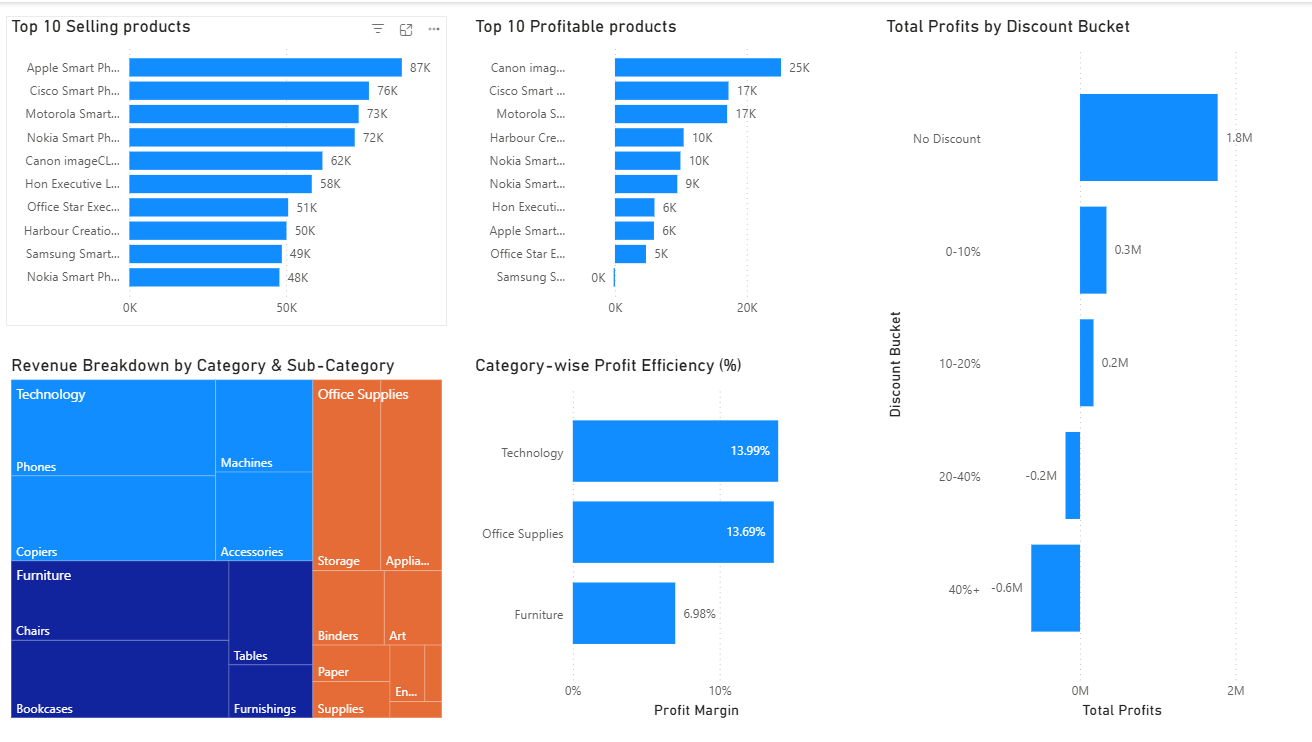

The page's visual inventory and layout, read from the dashboard file:
{"tool":"powerbi","page":{"name":"Product & Category Insights","canvas":[1280,720],"ordinal":1},"visuals":[{"type":"barChart","title":"Top 10 Selling products","fields":{"Category":["SuperStoreOrders.product_name"],"Y":["Key Measures.Total Sales"]},"box":[9.7,13.6,428.9,301.5],"z":0},{"type":"barChart","title":"Top 10 Profitable products","fields":{"Category":["SuperStoreOrders.product_name"],"Y":["Key Measures.Total Profits"]},"box":[461,13.6,357,301.5],"z":1000},{"type":"treemap","title":"Revenue Breakdown by Category & Sub-Category","fields":{"Values":["Key Measures.Total Sales"],"Group":["SuperStoreOrders.category"],"Details":["SuperStoreOrders.sub_category"]},"box":[9.7,343.3,428.9,357.9],"z":2000},{"type":"barChart","title":"Category-wise Profit Efficiency (%)","fields":{"Y":["Key Measures.Profit Margin"],"Category":["SuperStoreOrders.category"]},"box":[461,343.3,357.9,357.9],"z":3000},{"type":"barChart","fields":{"Category":["SuperStoreOrders.Discount Bucket"],"Y":["Key Measures.Total Profits"]},"box":[860.8,13.6,377.4,687.7],"z":4000}]}

Visuals, with their boxes in screenshot pixels (x1, y1, x2, y2), scaled from the page's 1280x720 canvas onto the 1312x742 screenshot:
"Top 10 Selling products" barChart: [10, 14, 450, 325]
"Top 10 Profitable products" barChart: [473, 14, 838, 325]
"Revenue Breakdown by Category & Sub-Category" treemap: [10, 354, 450, 723]
"Category-wise Profit Efficiency (%)" barChart: [473, 354, 839, 723]
barChart - SuperStoreOrders.Discount Bucket x Key Measures.Total Profits: [882, 14, 1269, 723]
